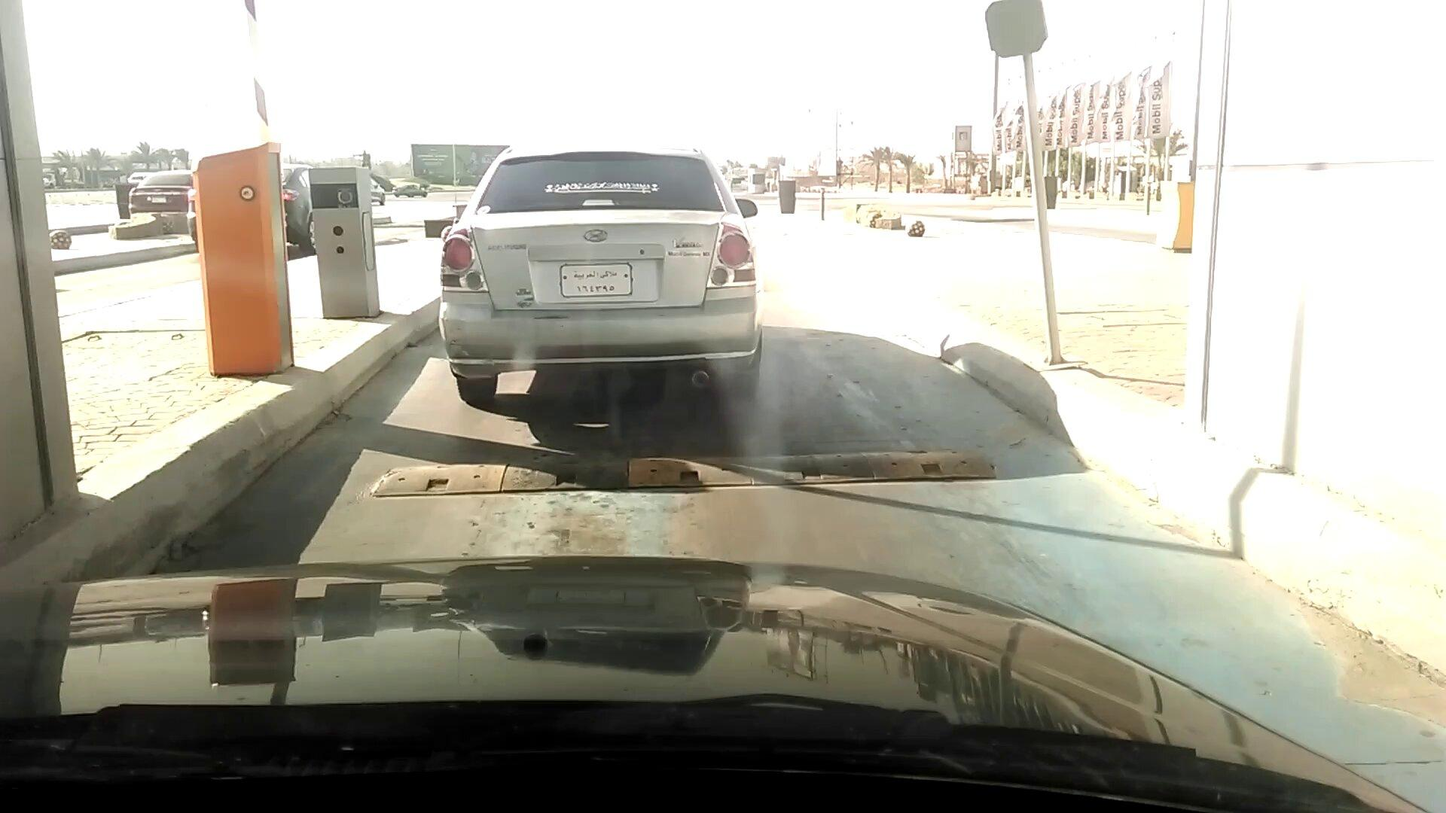Bump: (378, 442, 998, 491)
